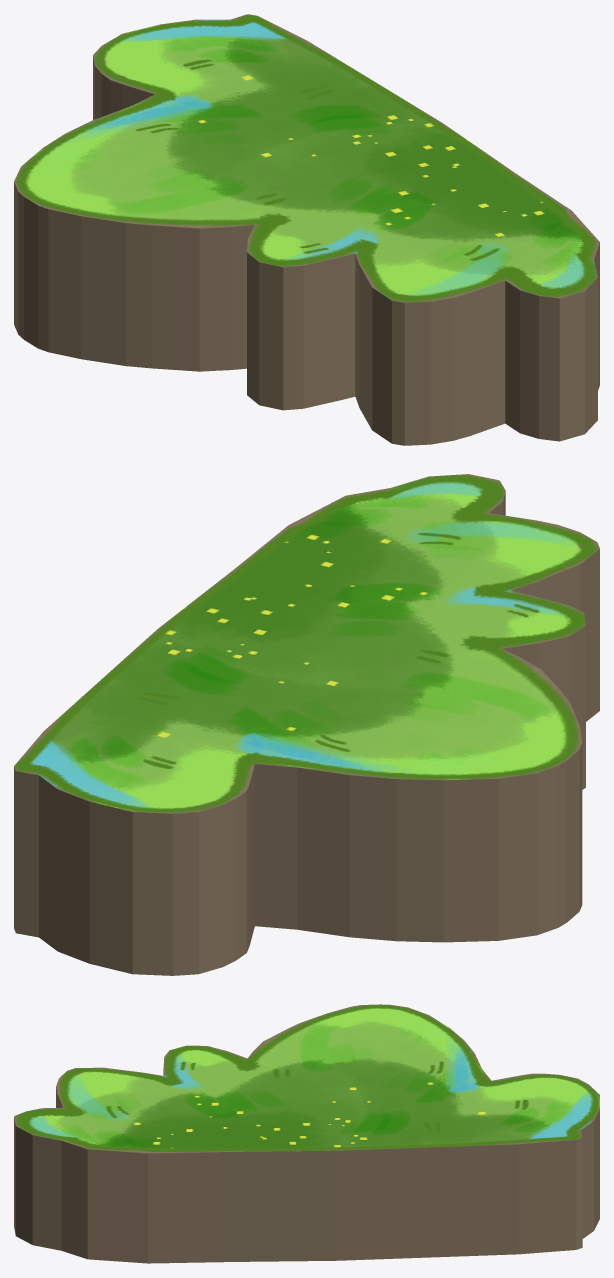
Rendered from Arbusto2.fbx.
The picture shows the model from 3 angles, top to bottom: view 1: azimuth 30°, elevation 25°; view 2: azimuth 150°, elevation 25°; view 3: azimuth 270°, elevation 25°; orthographic projection. The views are drawn at different scales.
Parts seen in each view (by area): view 1: Cube; view 2: Cube; view 3: Cube.
Part boxes in pixels (x1,y1,x2,y2): Cube: (14, 14, 599, 445); Cube: (14, 474, 599, 975); Cube: (14, 1004, 599, 1263).
Bounding box in the file's own units: 200 × 68.85 × 332.
